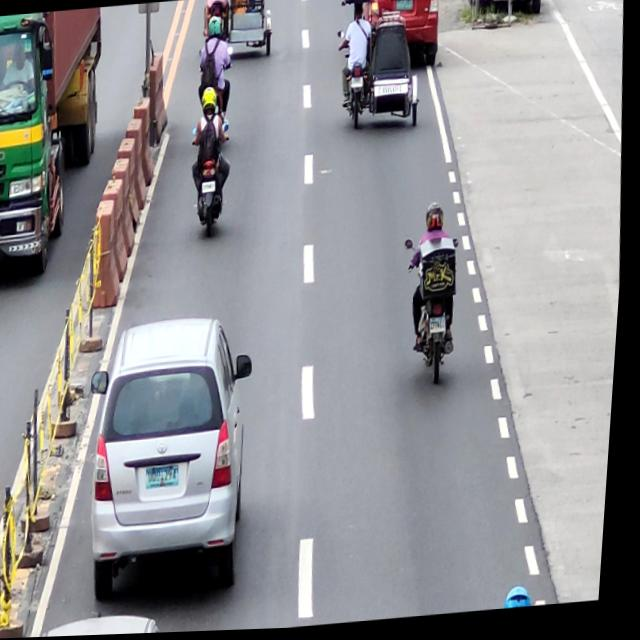Car: (82, 315, 271, 607), (353, 0, 444, 75)
License-Plate: (150, 465, 188, 492), (434, 320, 451, 337), (203, 182, 220, 195), (396, 2, 414, 13), (352, 79, 366, 92)
Motorcycle: (401, 235, 471, 392), (188, 123, 238, 241), (195, 46, 240, 139)
Tricycle: (331, 0, 429, 139), (201, 0, 278, 63)
